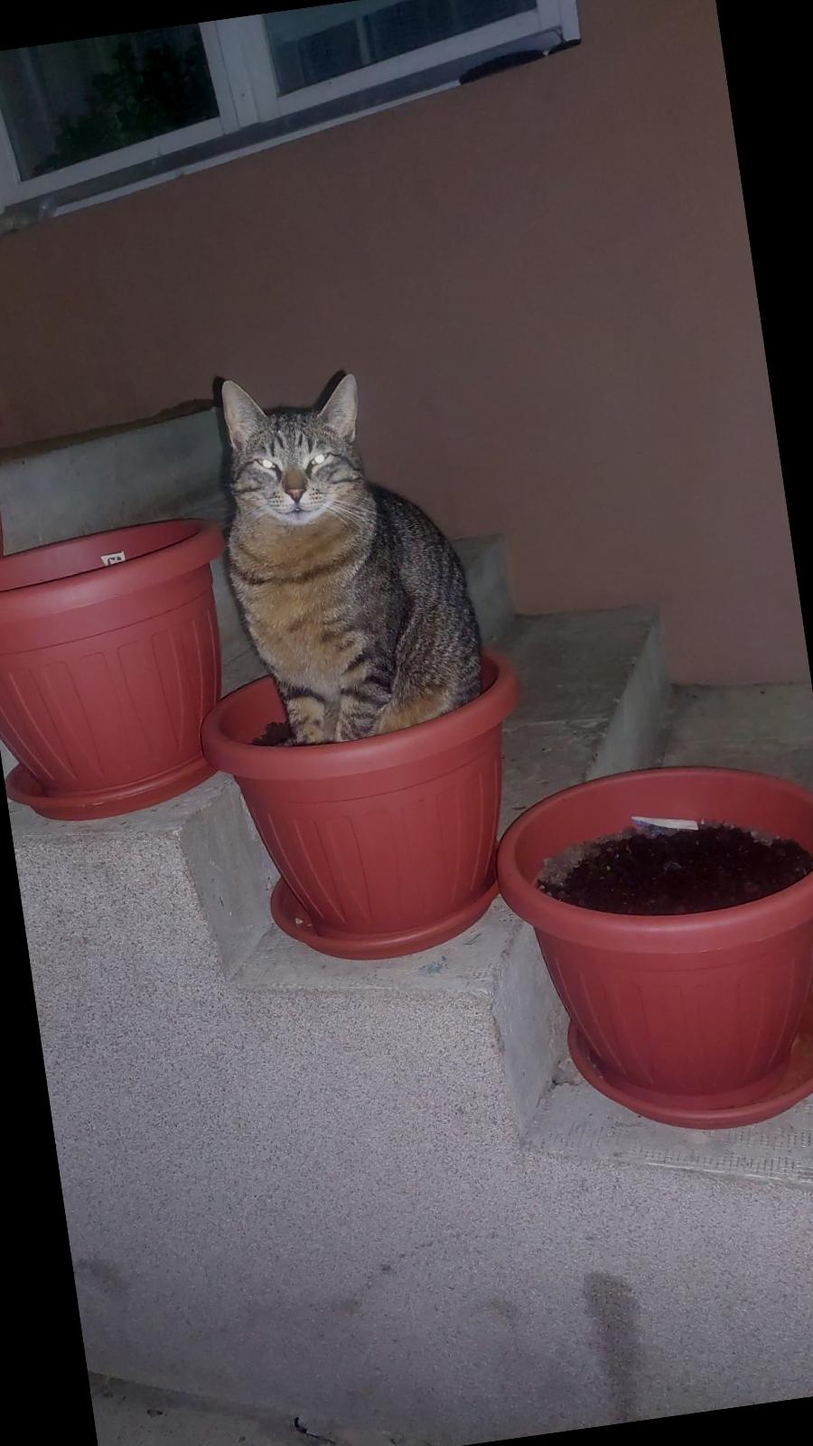macka: (201, 348, 496, 771)
